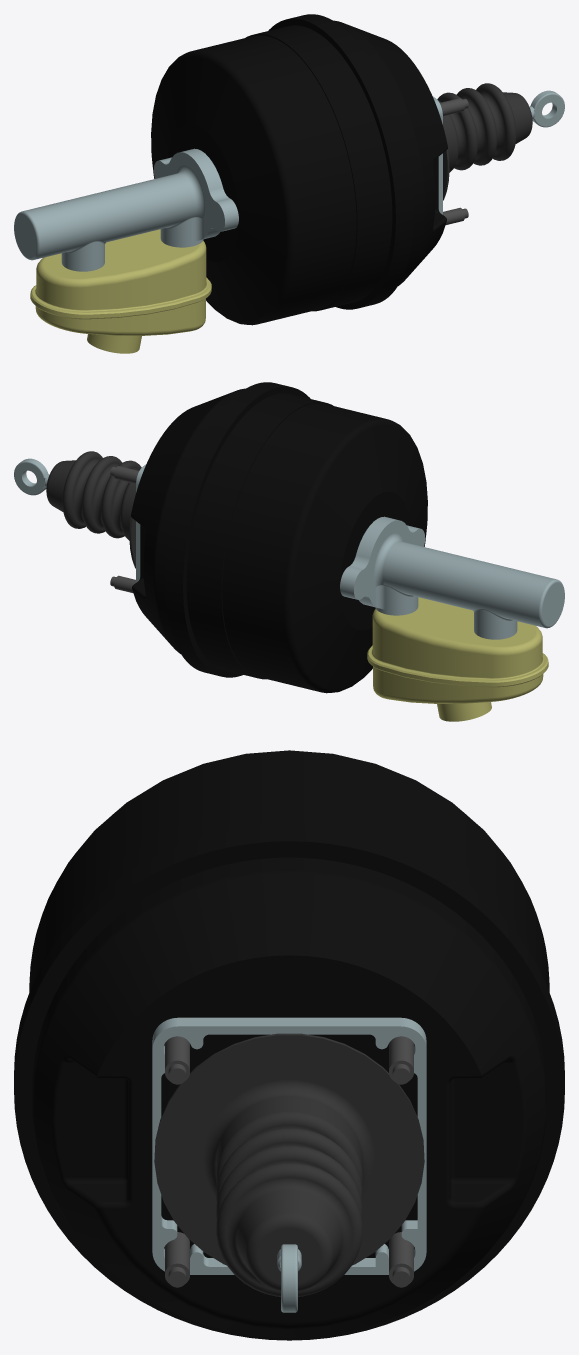
File: Servo.fbx
3 views of the same model, one above another, from view 1: azimuth 30°, elevation 25°; view 2: azimuth 150°, elevation 25°; view 3: azimuth 270°, elevation 25° (orthographic). The views are drawn at different scales.
Parts seen in each view (by area): view 1: \ (×4); view 2: \ (×4); view 3: \ (×7).
Part boxes in pixels (left/top/right/bottom): \ (×4): left=14, top=14, right=564, bottom=353; \ (×4): left=14, top=382, right=564, bottom=721; \ (×7): left=14, top=750, right=564, bottom=1340.
Size of the model in its own units: 446 by 214 by 214.
